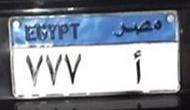7: (64, 51, 84, 85), (25, 54, 43, 88), (45, 53, 63, 85)
alif: (128, 47, 146, 85)
